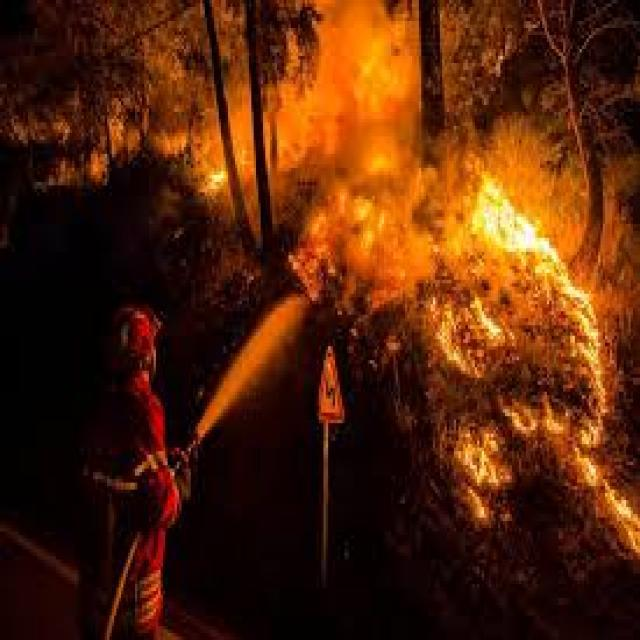Fire: (123, 0, 640, 546)
